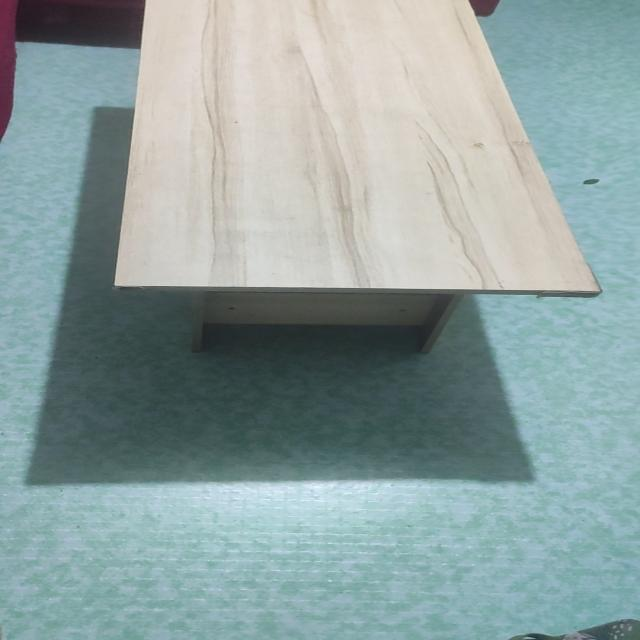table: (89, 0, 604, 351)
